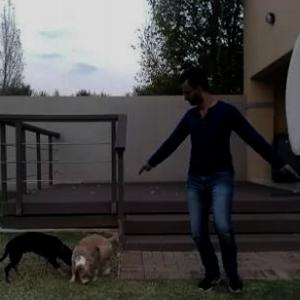land: (134, 66, 299, 296)
